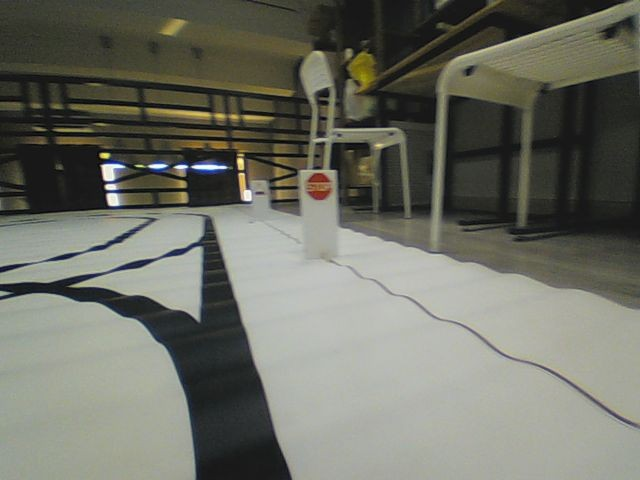Stop: (305, 172, 332, 200)
